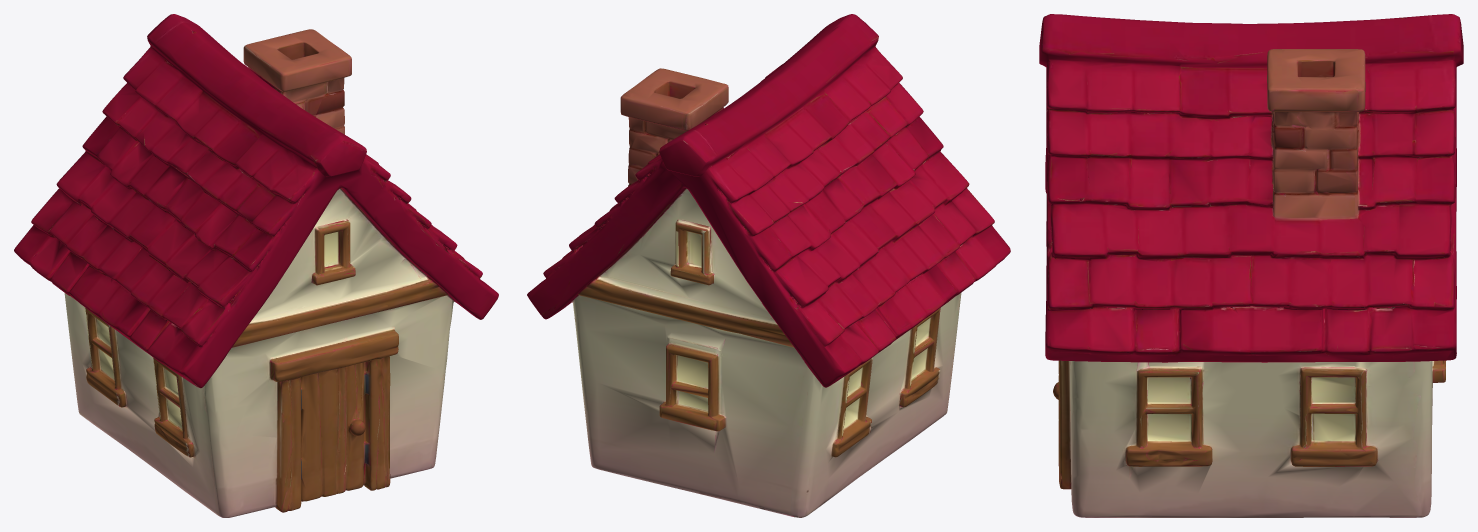
The model's file is house.glb.
The picture shows the model from 3 angles, left to right: view 1: azimuth 30°, elevation 25°; view 2: azimuth 150°, elevation 25°; view 3: azimuth 270°, elevation 25°; orthographic projection. The views are drawn at different scales.
Parts seen in each view (by area): view 1: Mesh_0; view 2: Mesh_0; view 3: Mesh_0.
Part boxes in pixels (bbox=[...]): Mesh_0: bbox=[14, 14, 498, 517]; Mesh_0: bbox=[527, 14, 1010, 517]; Mesh_0: bbox=[1039, 14, 1463, 517].
Size of the model in its own units: 1.75 by 1.91 by 1.66.
Materials: 1 (1 with a texture image).
